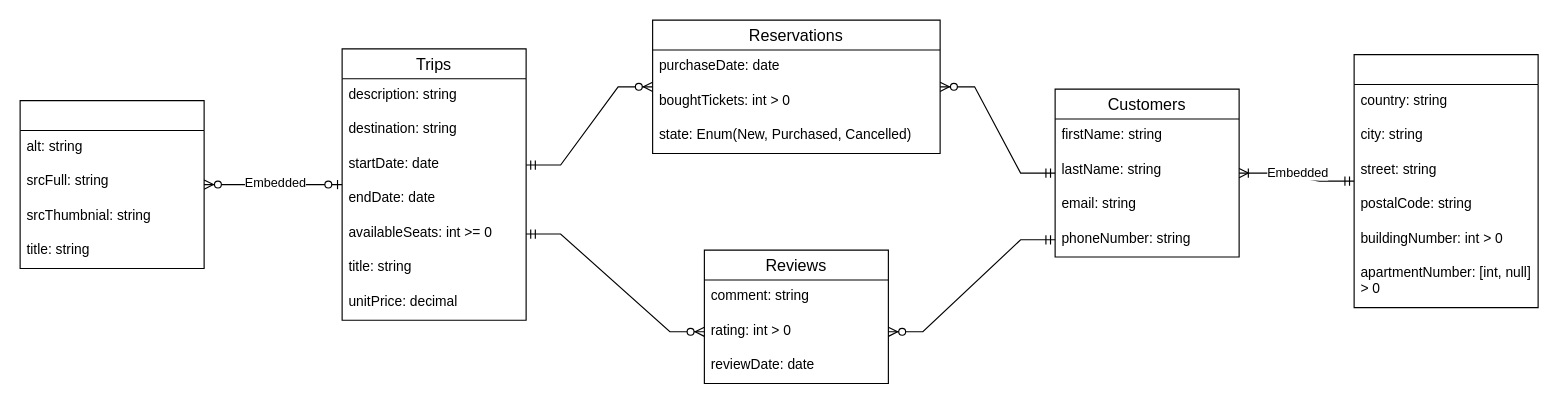
Image size: 1558x407. Some labels were removed from this diagram. The box of each missing label's shape, as (x1, y1, x2, y2) in pixels:
Addresses: (1353, 53, 1538, 308)
Images: (19, 99, 204, 269)
